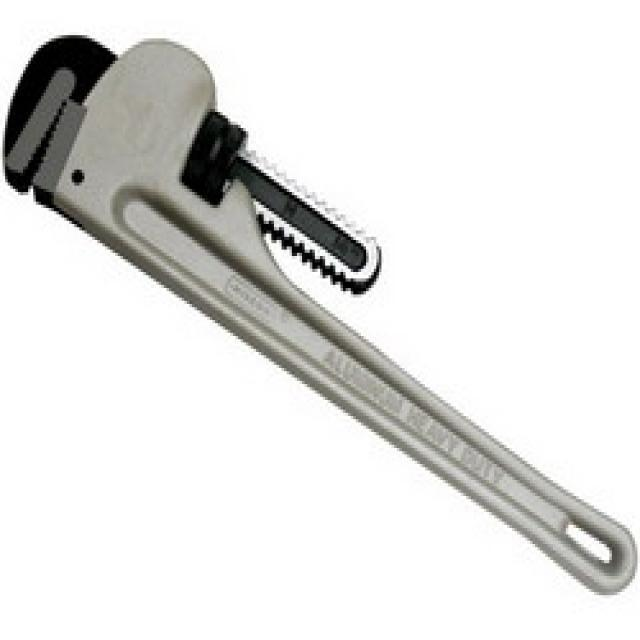wrench: (0, 25, 640, 602)
